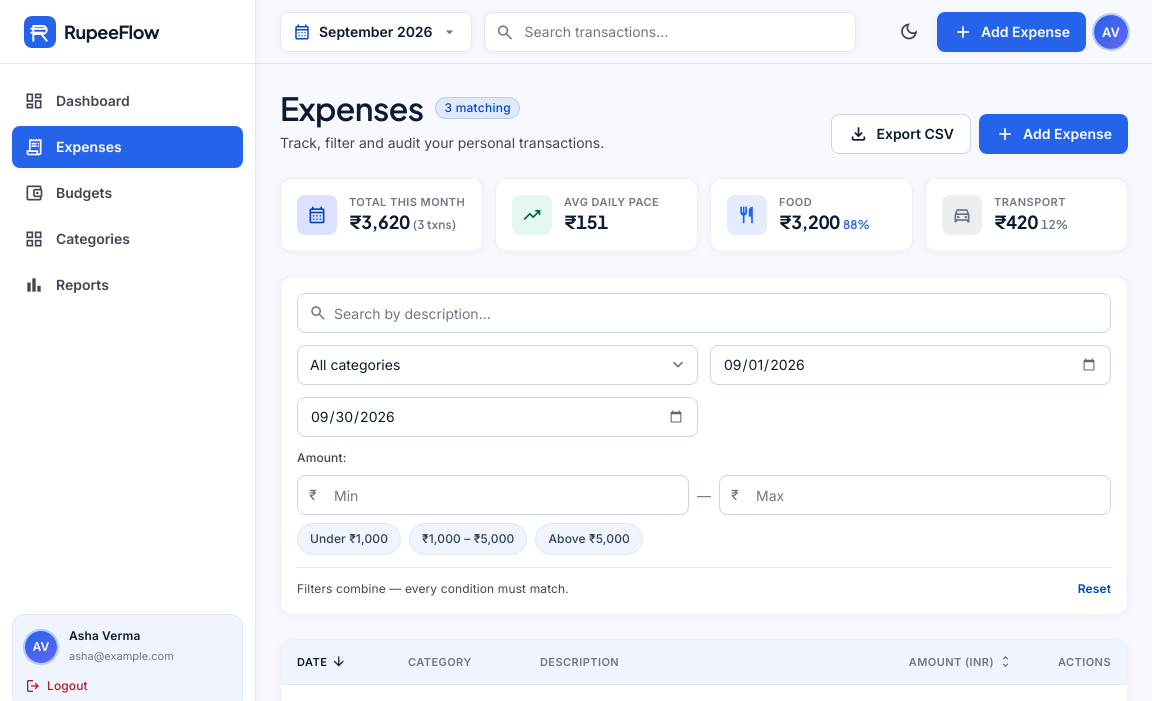
Test: Expenses › shows the empty state when no rows match
Type "zzz-nothing" into the field named "Search descriptions" at (704, 313), box [297,293,1111,333]
(page scrolled)
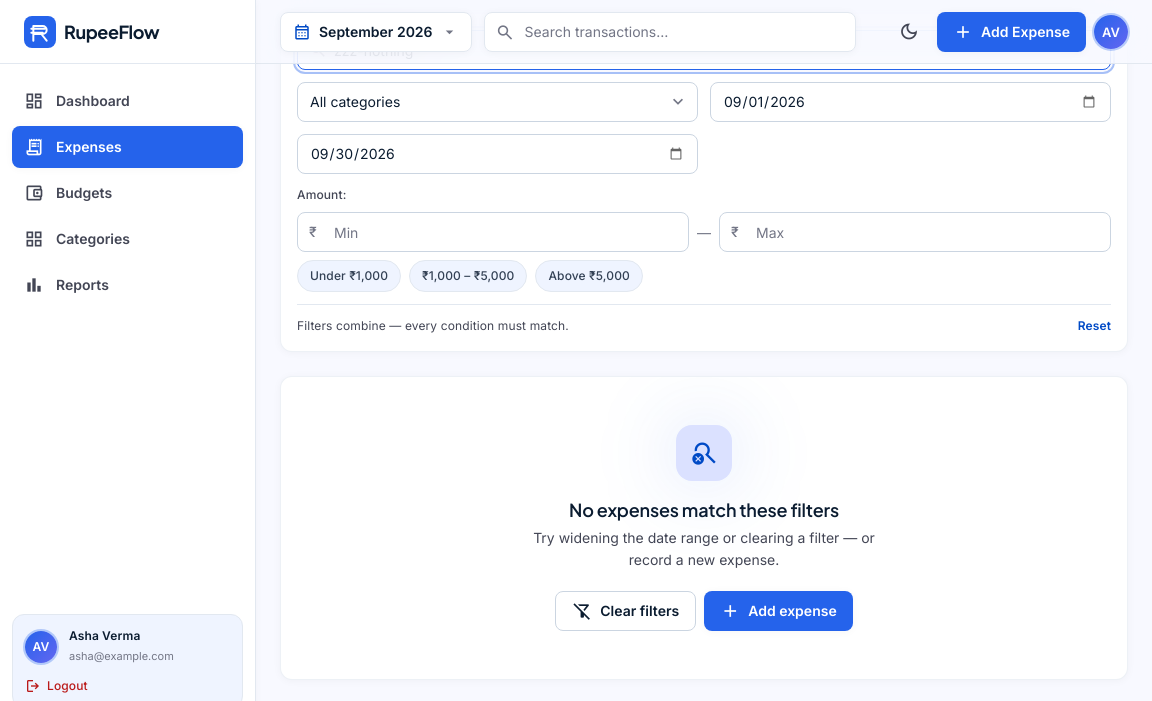
Expected: the heading "No expenses match these filters" is shown, [569,497,839,523]
